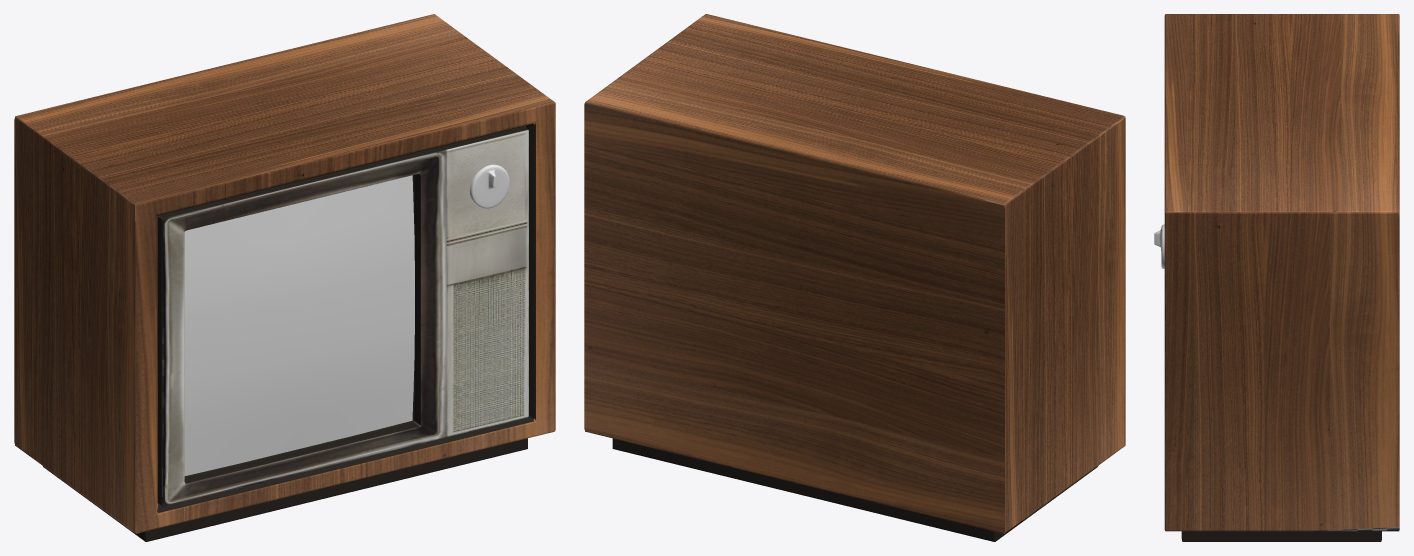
The model's file is parasonic_tv.glb.
3 views of the same model, side by side, from view 1: azimuth 30°, elevation 25°; view 2: azimuth 150°, elevation 25°; view 3: azimuth 270°, elevation 25° (orthographic). The views are drawn at different scales.
Parts seen in each view (by area): view 1: ParasonicTV, Screen, Dial; view 2: ParasonicTV; view 3: ParasonicTV.
Part boxes in pixels (bbox=[...]): ParasonicTV: bbox=[14, 14, 555, 541]; Screen: bbox=[184, 175, 414, 475]; Dial: bbox=[469, 164, 509, 208]; ParasonicTV: bbox=[584, 14, 1125, 541]; ParasonicTV: bbox=[1164, 14, 1399, 541].
Bounding box in the file's own units: 2 × 1.59 × 1.04.
Materials: 1 (1 with a texture image).
